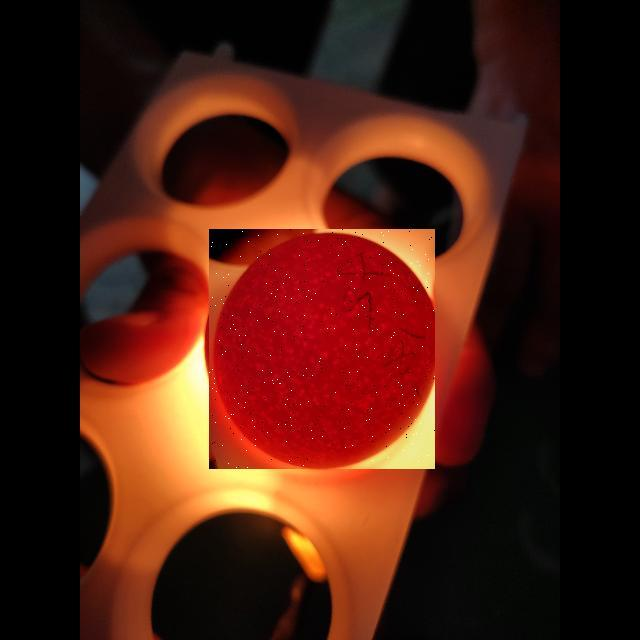Infertile: (209, 229, 435, 469)
